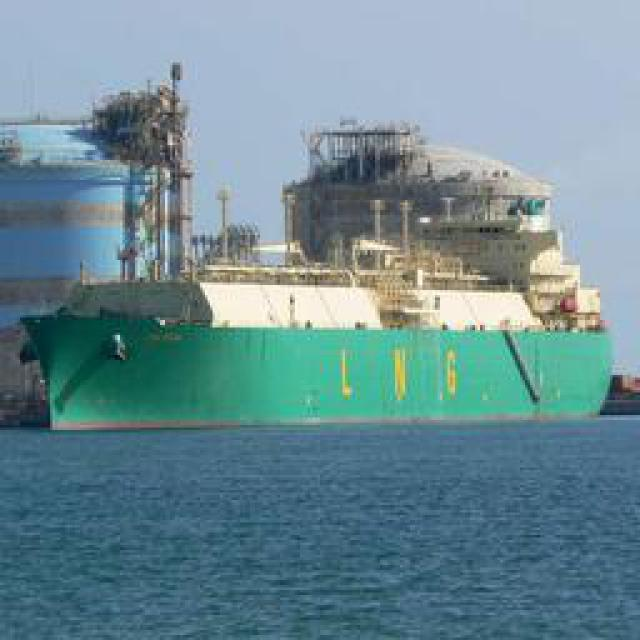Ship: (20, 101, 610, 446)
